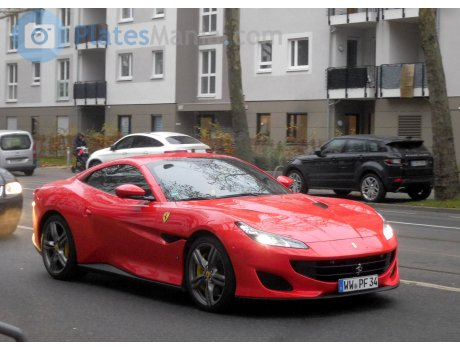License Plates: (344, 275, 372, 286)
